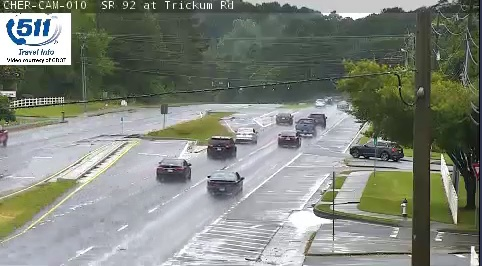car: (207, 170, 242, 195), (157, 158, 190, 179), (207, 136, 236, 157), (278, 130, 300, 147), (234, 127, 257, 143), (296, 119, 315, 135), (309, 114, 326, 127), (275, 112, 292, 125)
